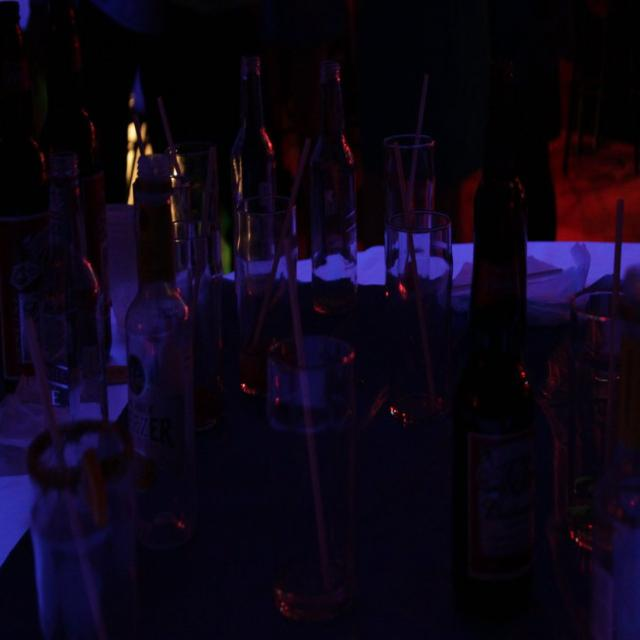Bottle: (470, 93, 554, 620), (120, 135, 208, 559), (309, 43, 376, 331), (231, 53, 297, 344), (44, 128, 90, 379)
Cup: (263, 331, 380, 637), (24, 406, 142, 640), (569, 255, 640, 505), (387, 224, 469, 395), (393, 106, 441, 256)
